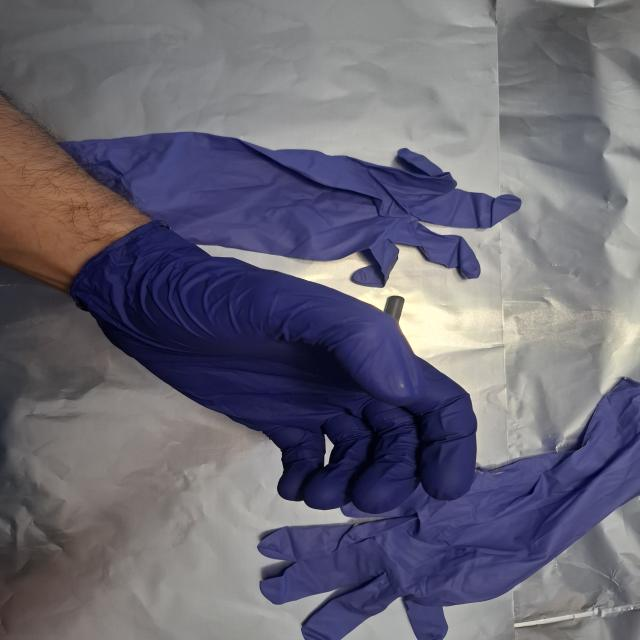glove_on: (71, 218, 481, 516)
